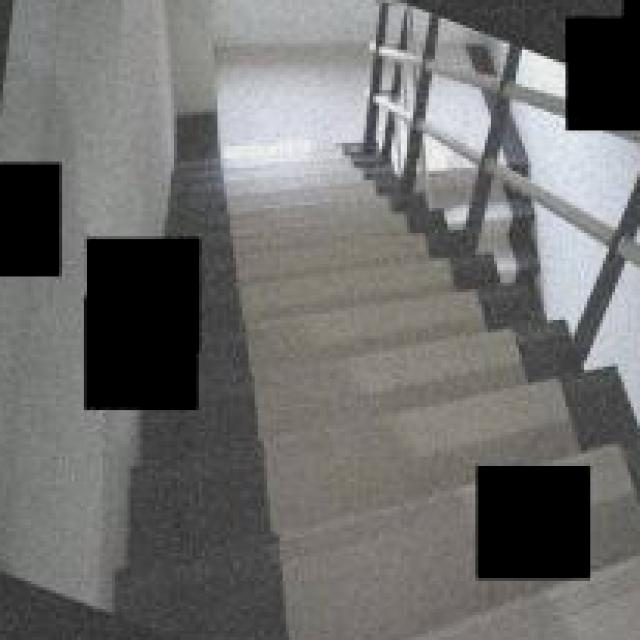downstair: (222, 240, 439, 585)
